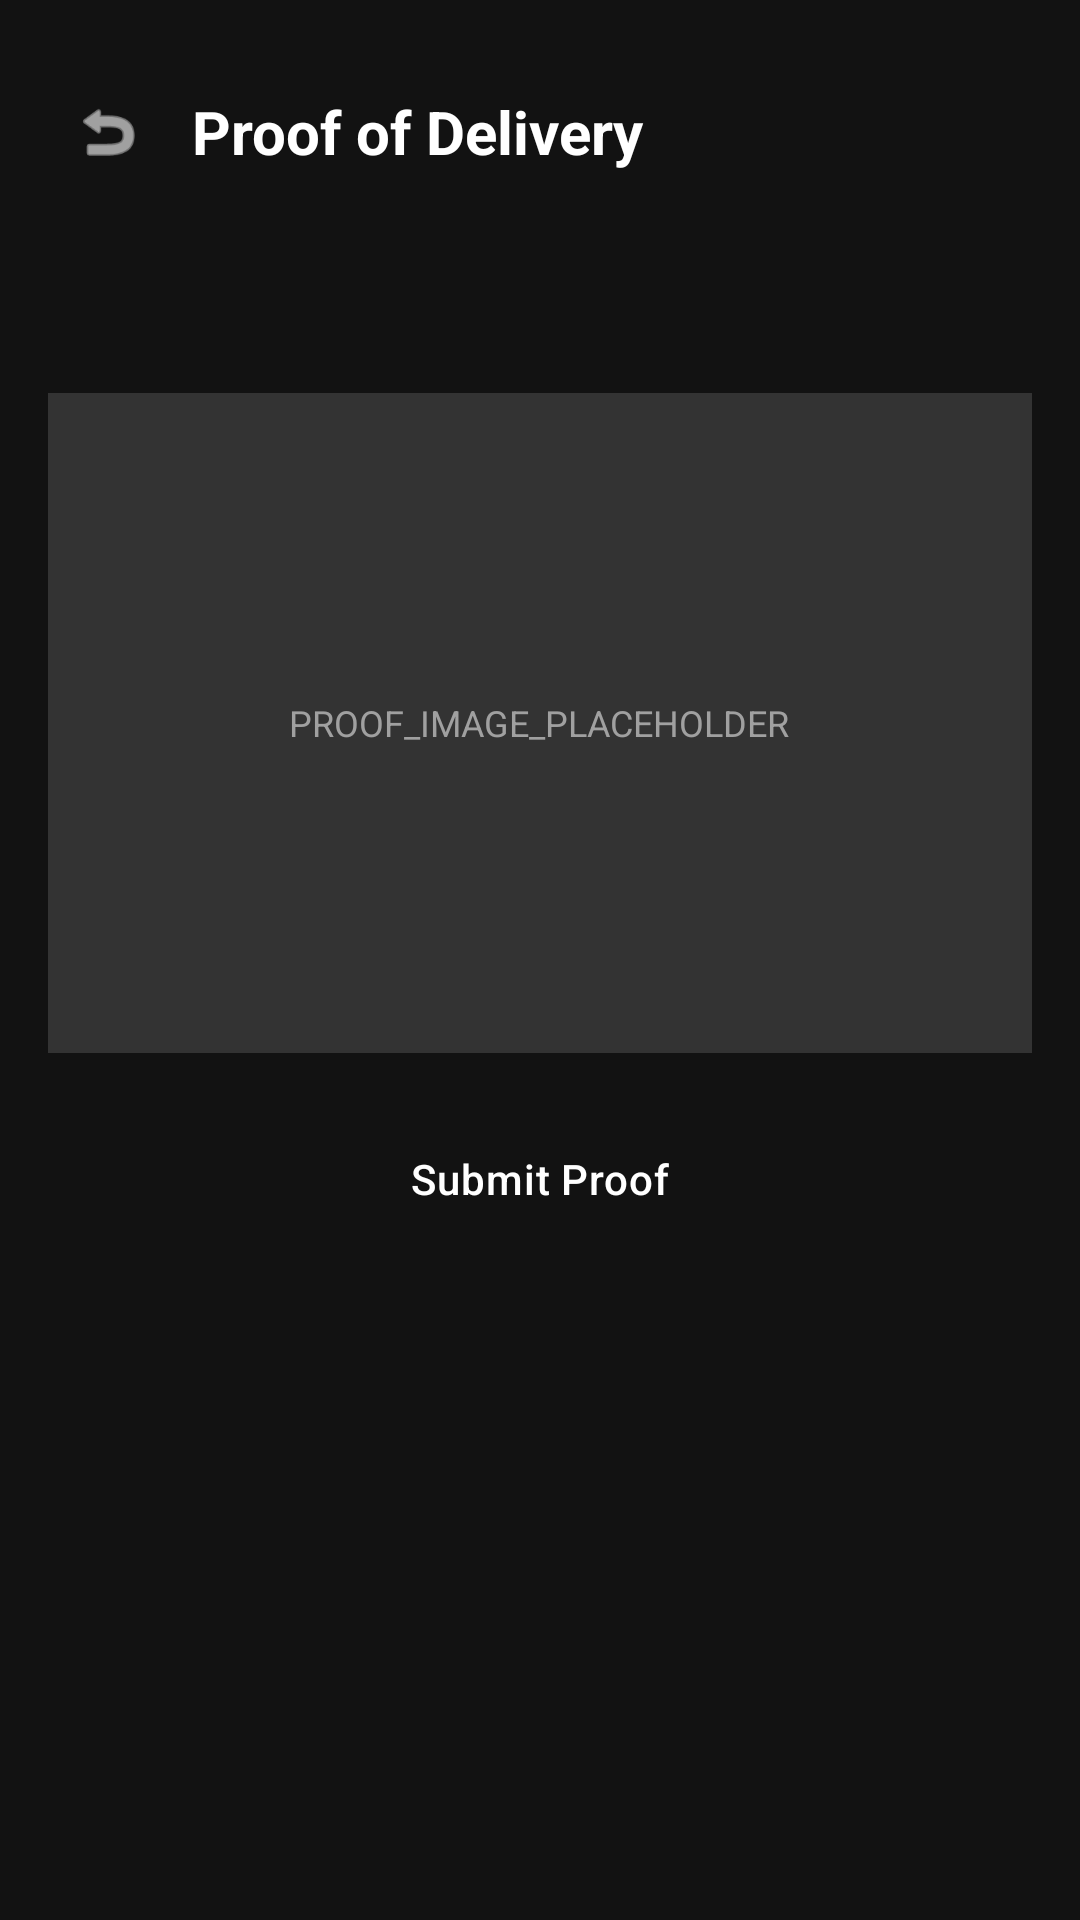

Icon click points for this 1080×1920 phone screenshot, format (x=x, y=y):
revert: (x=109, y=132)
